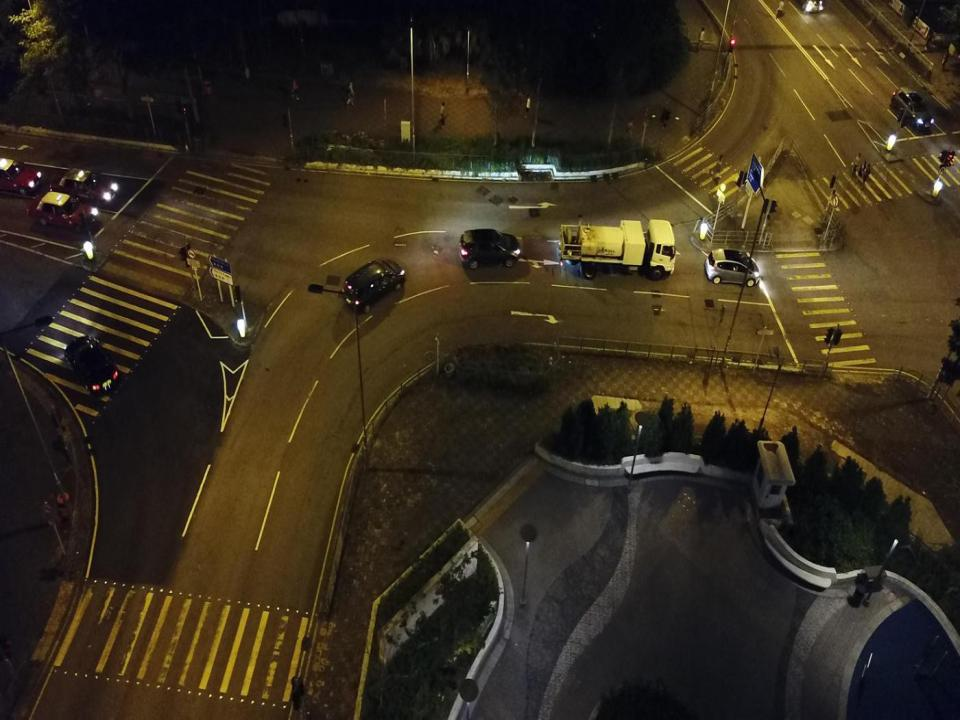car: (63, 334, 121, 396), (342, 258, 405, 314), (50, 166, 124, 210), (26, 191, 97, 235), (458, 228, 521, 270), (704, 248, 760, 287), (890, 86, 932, 131), (0, 156, 43, 196)
truck: (557, 218, 676, 282)
